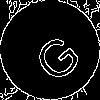G: (25, 25, 84, 86)
